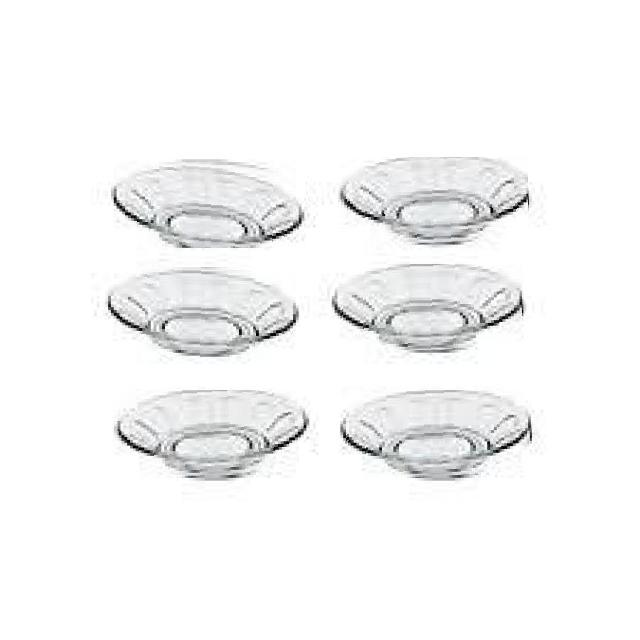Glass: (106, 156, 306, 248), (106, 264, 300, 357), (114, 390, 310, 481), (338, 390, 532, 481), (336, 157, 528, 248), (331, 264, 523, 354)
